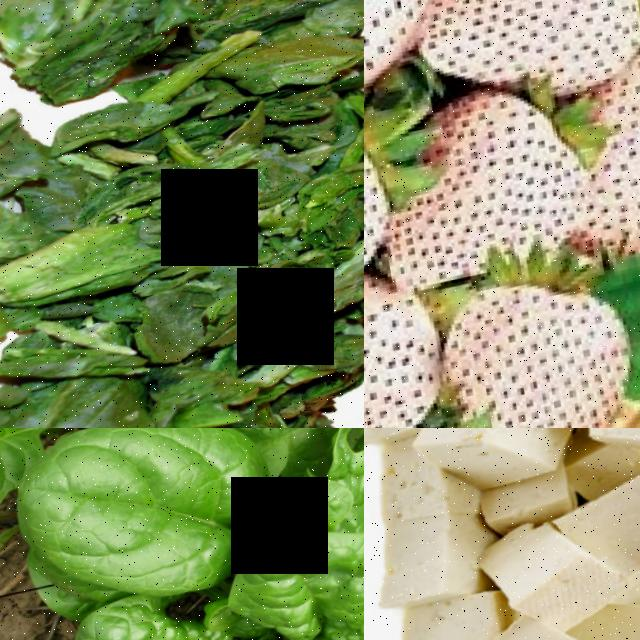spinach: (12, 428, 269, 625), (234, 523, 364, 640), (78, 584, 245, 640)
strawberry: (408, 81, 595, 291), (434, 270, 640, 428), (448, 0, 640, 109), (578, 56, 640, 262), (364, 279, 448, 428)
tofu: (364, 482, 488, 612), (492, 529, 621, 629), (401, 428, 562, 497), (557, 462, 640, 586), (454, 601, 627, 640)
